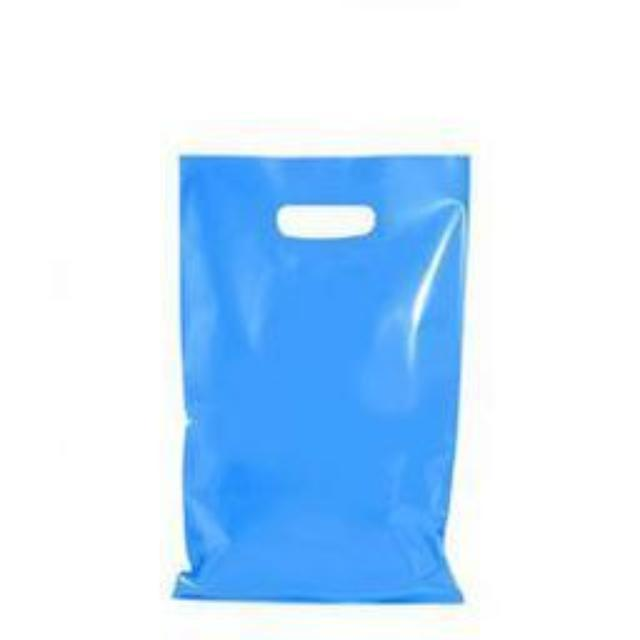Bolsa-de-nilon: (158, 114, 479, 612)
